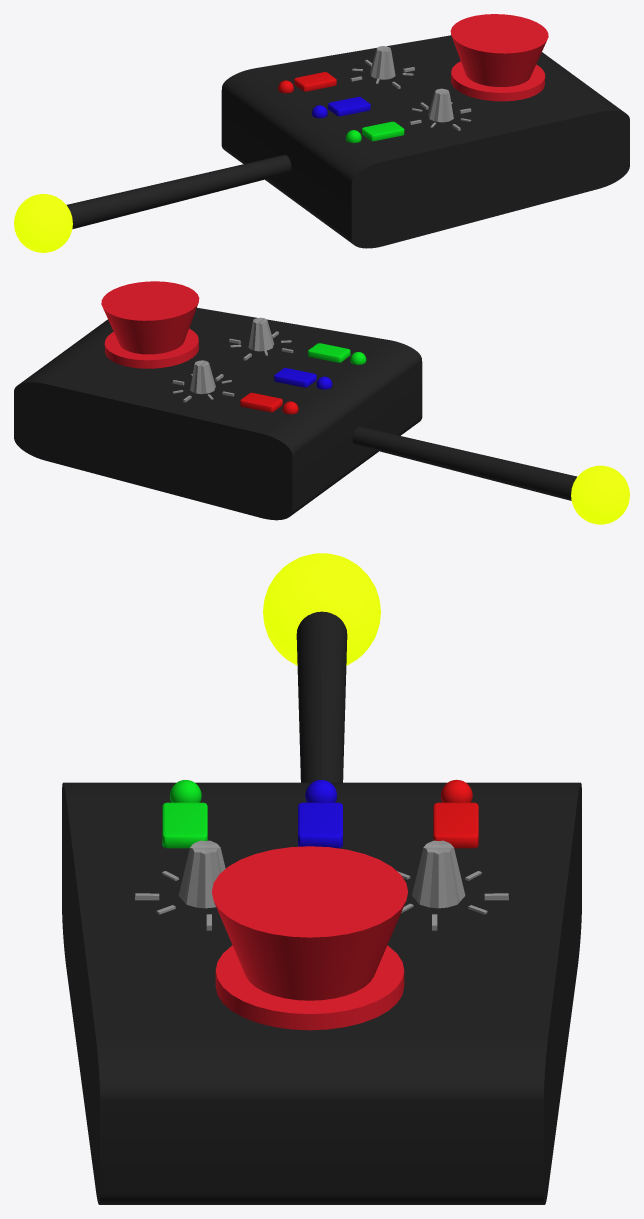
The model's file is kumanda.fbx.
The picture shows the model from 3 angles, top to bottom: view 1: azimuth 30°, elevation 25°; view 2: azimuth 150°, elevation 25°; view 3: azimuth 270°, elevation 25°; orthographic projection. The views are drawn at different scales.
Parts seen in each view (by area): view 1: Cube; view 2: Cube; view 3: Cube.
Part boxes in pixels (x1,y1,x2,y2): Cube: (14, 14, 629, 252); Cube: (14, 281, 629, 524); Cube: (62, 553, 581, 1204).
Size of the model in its own units: 399 by 88.46 by 161.
